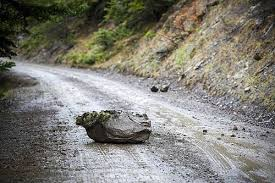obstacle: (76, 107, 153, 145), (151, 83, 171, 96)
